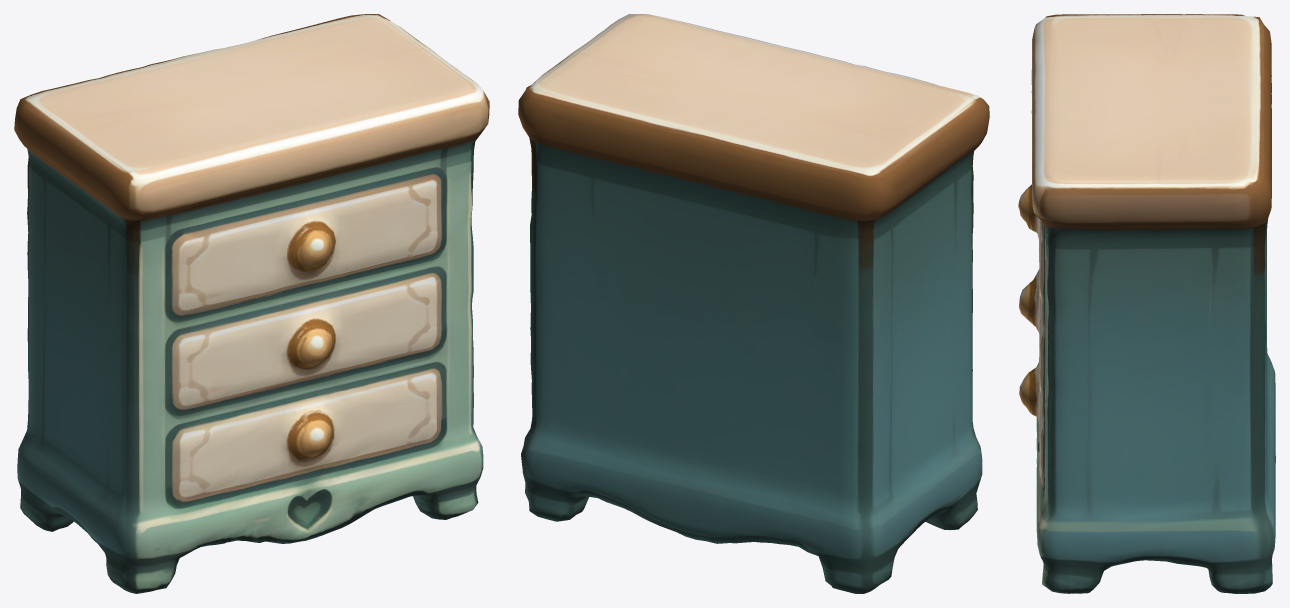
Rendered from Green_drawer_Cabinet.glb.
The picture shows the model from 3 angles, left to right: view 1: azimuth 30°, elevation 25°; view 2: azimuth 150°, elevation 25°; view 3: azimuth 270°, elevation 25°; orthographic projection. The views are drawn at different scales.
Parts seen in each view (by area): view 1: RETOPO; view 2: RETOPO; view 3: RETOPO.
Part boxes in pixels (left/top/right/bottom): RETOPO: left=14, top=14, right=489, bottom=593; RETOPO: left=518, top=14, right=989, bottom=593; RETOPO: left=1018, top=14, right=1275, bottom=593.
Size of the model in its own units: 0.7797 by 0.8517 by 0.4768.
1 material, 1 textured.
